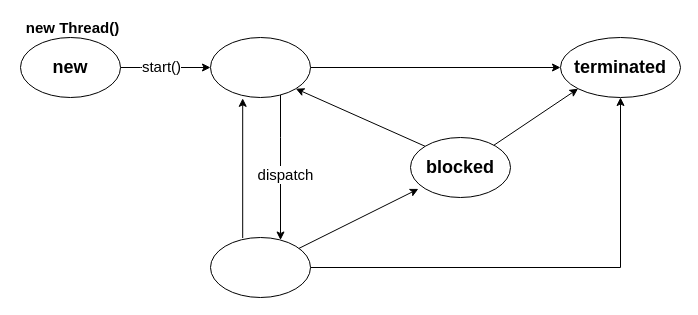
Image size: 698x315. Some labels were removed from this diagram. Each missing label, with the centre of its shape:
"runnable" goes at point 260,67.
"running" goes at point 260,267.
